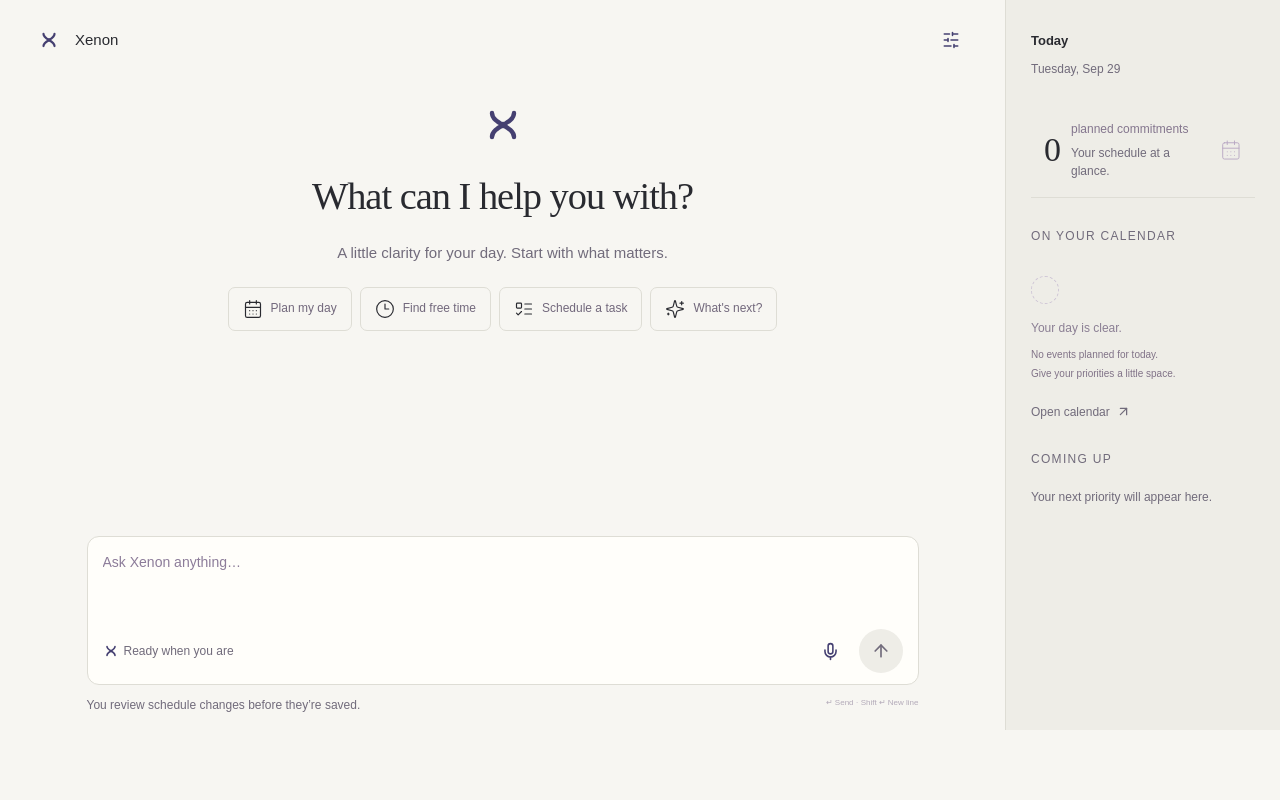
Test case: populates suggestions without submitting
This screenshot has width=1280, height=800.
Expected: the heading "What can I help you with?" is shown, [312,175,693,217]
Click the button "Schedule a task".
click(571, 309)  # box [499,287,642,331]
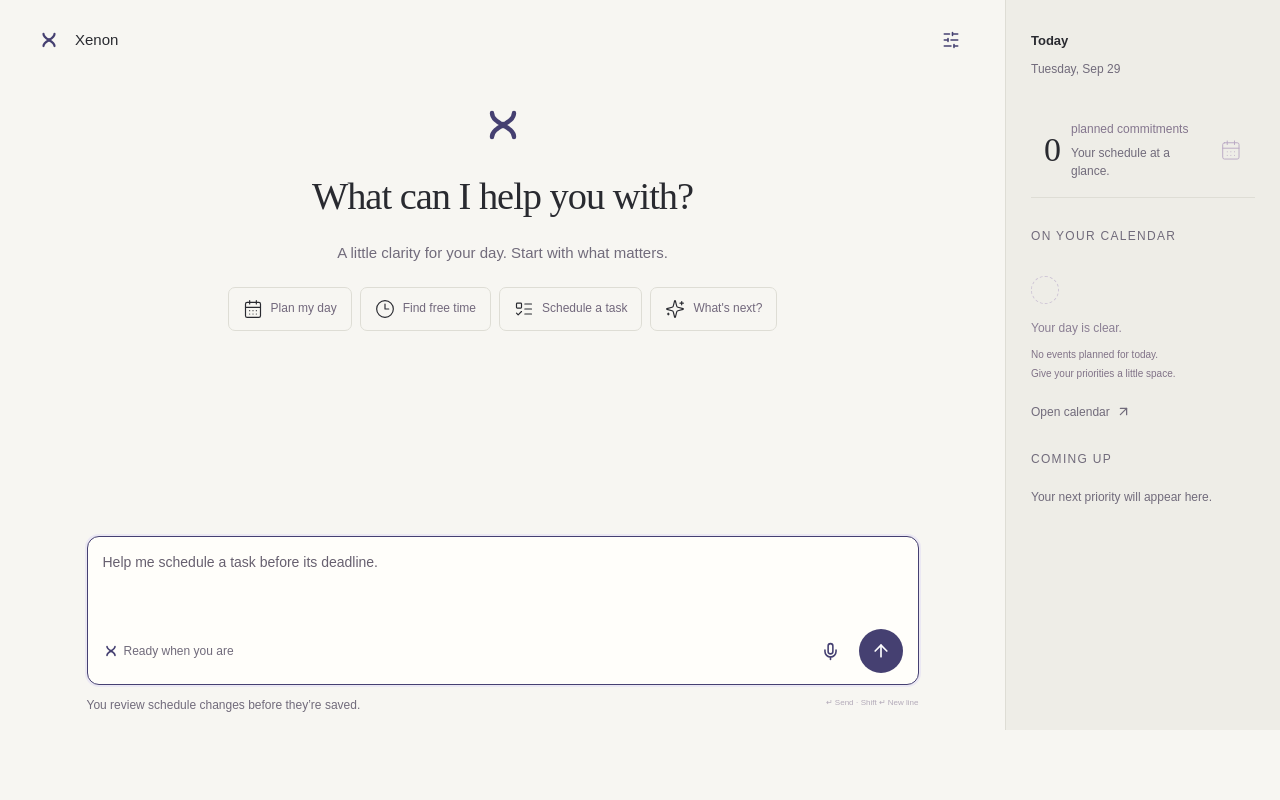
Expected: the text box named "Message your assistant" holds "Help me schedule a task before its deadline.", [102,551,902,609]
Click the button named "Send message".
click(880, 651)  # box [858,629,902,673]
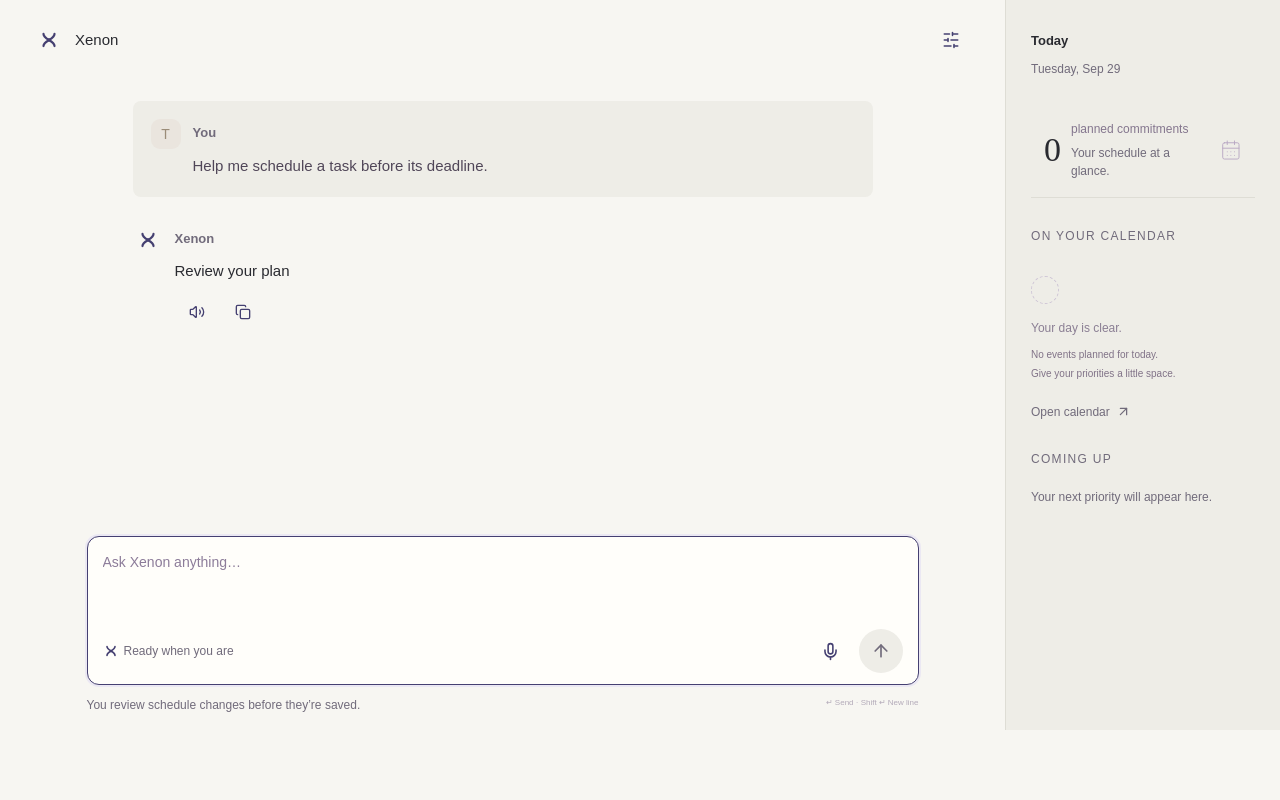
Expected: the text "Review your plan" is shown, [174,262,290,279]
